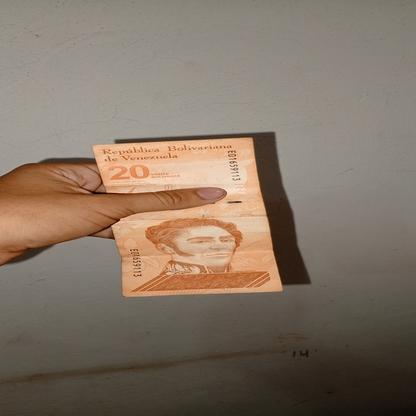twenty-front-vef: (90, 137, 284, 298)
